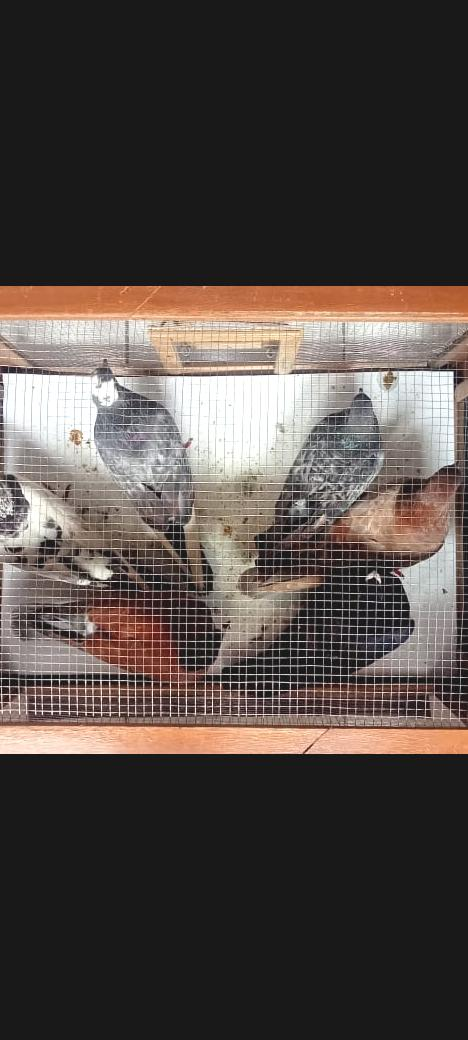Merpati: (236, 459, 461, 599), (89, 360, 213, 598), (219, 566, 417, 699), (253, 389, 385, 557), (10, 589, 235, 684), (0, 473, 147, 590)
